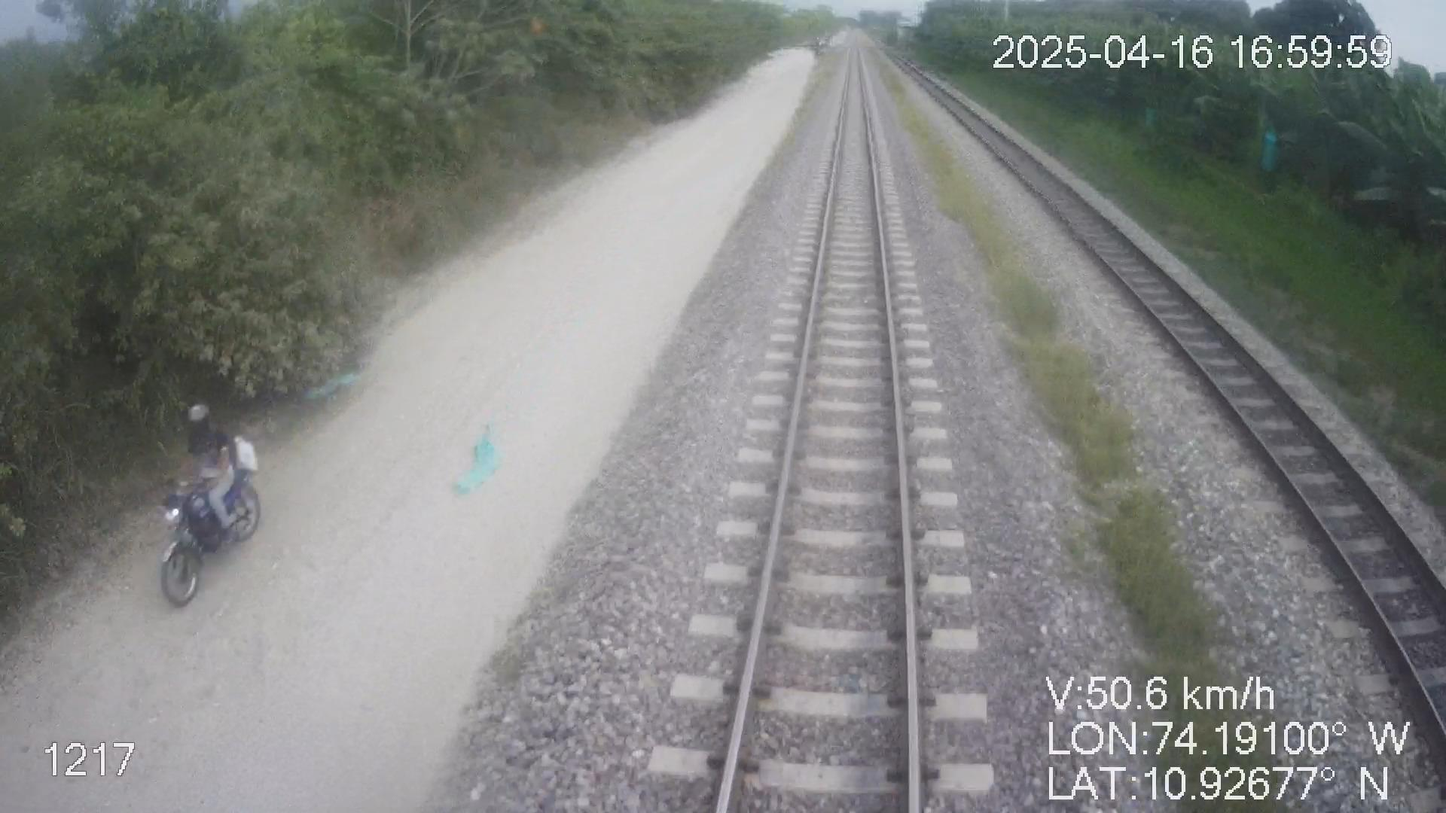Pasto: (0, 0, 822, 742), (904, 0, 1445, 523)
